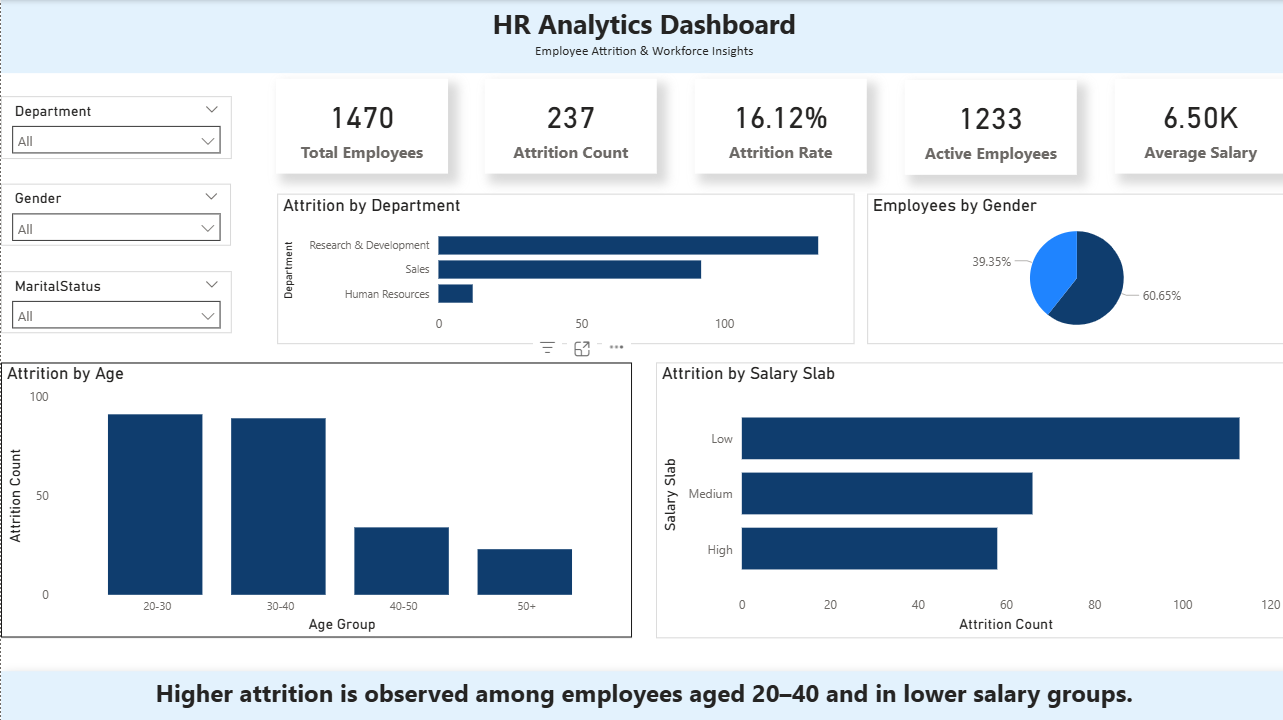

This screenshot's page, from the dashboard's own definition file:
{"tool":"powerbi","page":{"name":"Page 1","canvas":[1280,720],"ordinal":0},"visuals":[{"type":"textbox","box":[0,0,1280.3,72.7],"z":0},{"type":"card","fields":{"Values":["HR_Data.Total Employees"]},"box":[273.1,78.5,171.5,94.7],"z":1000},{"type":"card","fields":{"Values":["HR_Data.Attrition Count"]},"box":[481.9,78.5,171.5,94.7],"z":2000},{"type":"card","fields":{"Values":["HR_Data.Attrition Rate"]},"box":[690.8,78.5,171.5,94.7],"z":3000},{"type":"card","fields":{"Values":["HR_Data.Active Employees"]},"box":[899.6,79.9,171.5,94.7],"z":4000},{"type":"card","fields":{"Values":["HR_Data.Average Salary"]},"box":[1108.5,78.5,171.5,94.7],"z":5000},{"type":"slicer","fields":{"Values":["HR_Data.Department"]},"box":[0,95.5,229.5,62.7],"z":6000},{"type":"slicer","fields":{"Values":["HR_Data.Gender"]},"box":[0,182.9,229.2,61.7],"z":7000},{"type":"slicer","fields":{"Values":["HR_Data.MaritalStatus"]},"box":[0,269.4,229.5,61.3],"z":8000},{"type":"clusteredBarChart","title":"Attrition by Department","fields":{"Category":["HR_Data.Department"],"Y":["HR_Data.Attrition Count"]},"box":[274.4,192.5,574.6,149.4],"z":9000},{"type":"pieChart","title":"Employees by Gender","fields":{"Category":["HR_Data.Gender"],"Y":["Sum(HR_Data.EmployeeNumber)"]},"box":[862,192.5,418,149.4],"z":10000},{"type":"clusteredColumnChart","title":"Attrition by Age","fields":{"Y":["HR_Data.Attrition Count"],"Category":["HR_Data.Age Group"]},"box":[0,360.6,627.8,274.4],"z":11000},{"type":"clusteredBarChart","title":"Attrition by Salary Slab","fields":{"Category":["HR_Data.Salary Slab"],"Y":["HR_Data.Attrition Count"]},"box":[652.2,360.6,627.8,274.4],"z":12000},{"type":"textbox","box":[0,668.3,1280,51.7],"z":13000}]}

Visuals, with their boxes in screenshot pixels (x1, y1, x2, y2), scaled from the page's 1280x720 canvas onto the 1283x720 screenshot:
textbox: box=[0, 0, 1282, 73]
card - HR_Data.Total Employees: box=[274, 78, 446, 173]
card - HR_Data.Attrition Count: box=[483, 78, 655, 173]
card - HR_Data.Attrition Rate: box=[692, 78, 864, 173]
card - HR_Data.Active Employees: box=[902, 80, 1074, 175]
card - HR_Data.Average Salary: box=[1111, 78, 1282, 173]
slicer - HR_Data.Department: box=[0, 96, 230, 158]
slicer - HR_Data.Gender: box=[0, 183, 230, 245]
slicer - HR_Data.MaritalStatus: box=[0, 269, 230, 331]
"Attrition by Department" clusteredBarChart: box=[275, 192, 851, 342]
"Employees by Gender" pieChart: box=[864, 192, 1282, 342]
"Attrition by Age" clusteredColumnChart: box=[0, 361, 629, 635]
"Attrition by Salary Slab" clusteredBarChart: box=[654, 361, 1282, 635]
textbox: box=[0, 668, 1282, 719]
